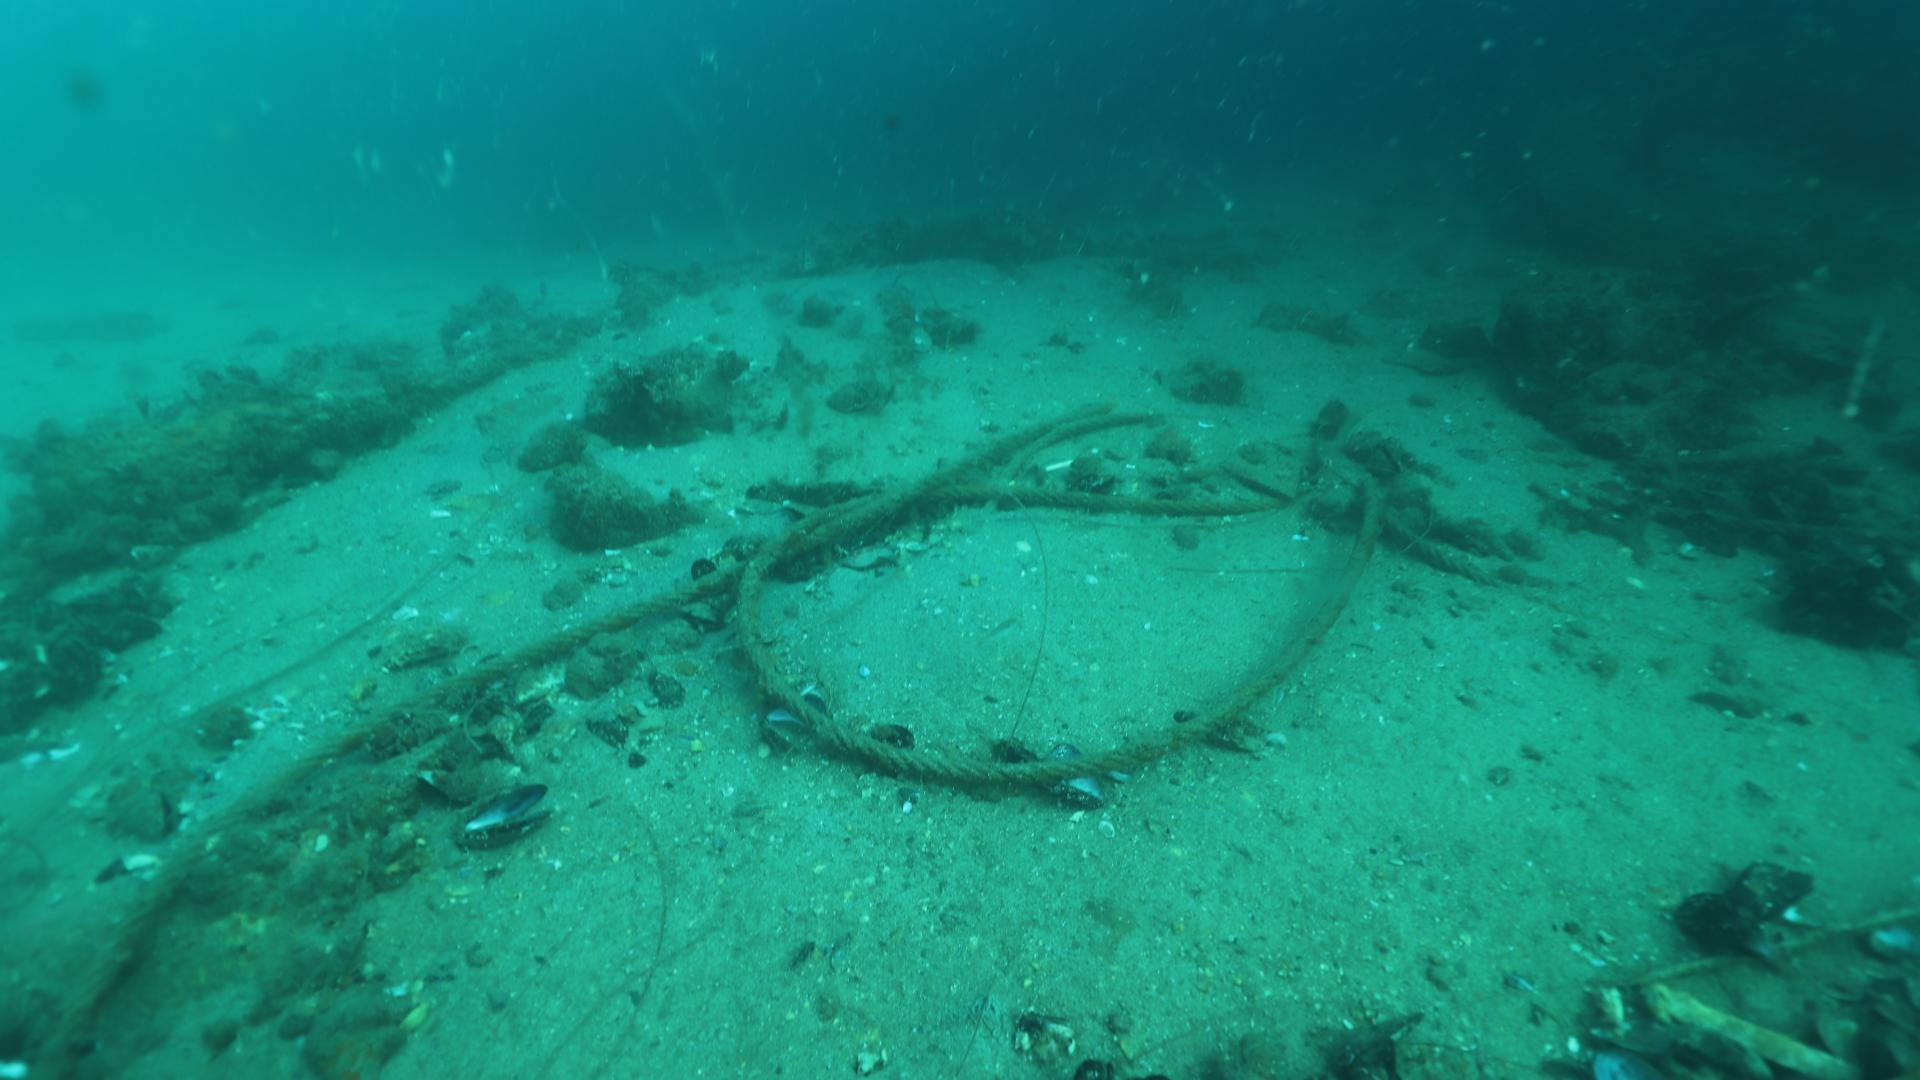bundle of ropes: (0, 396, 1377, 1080)
